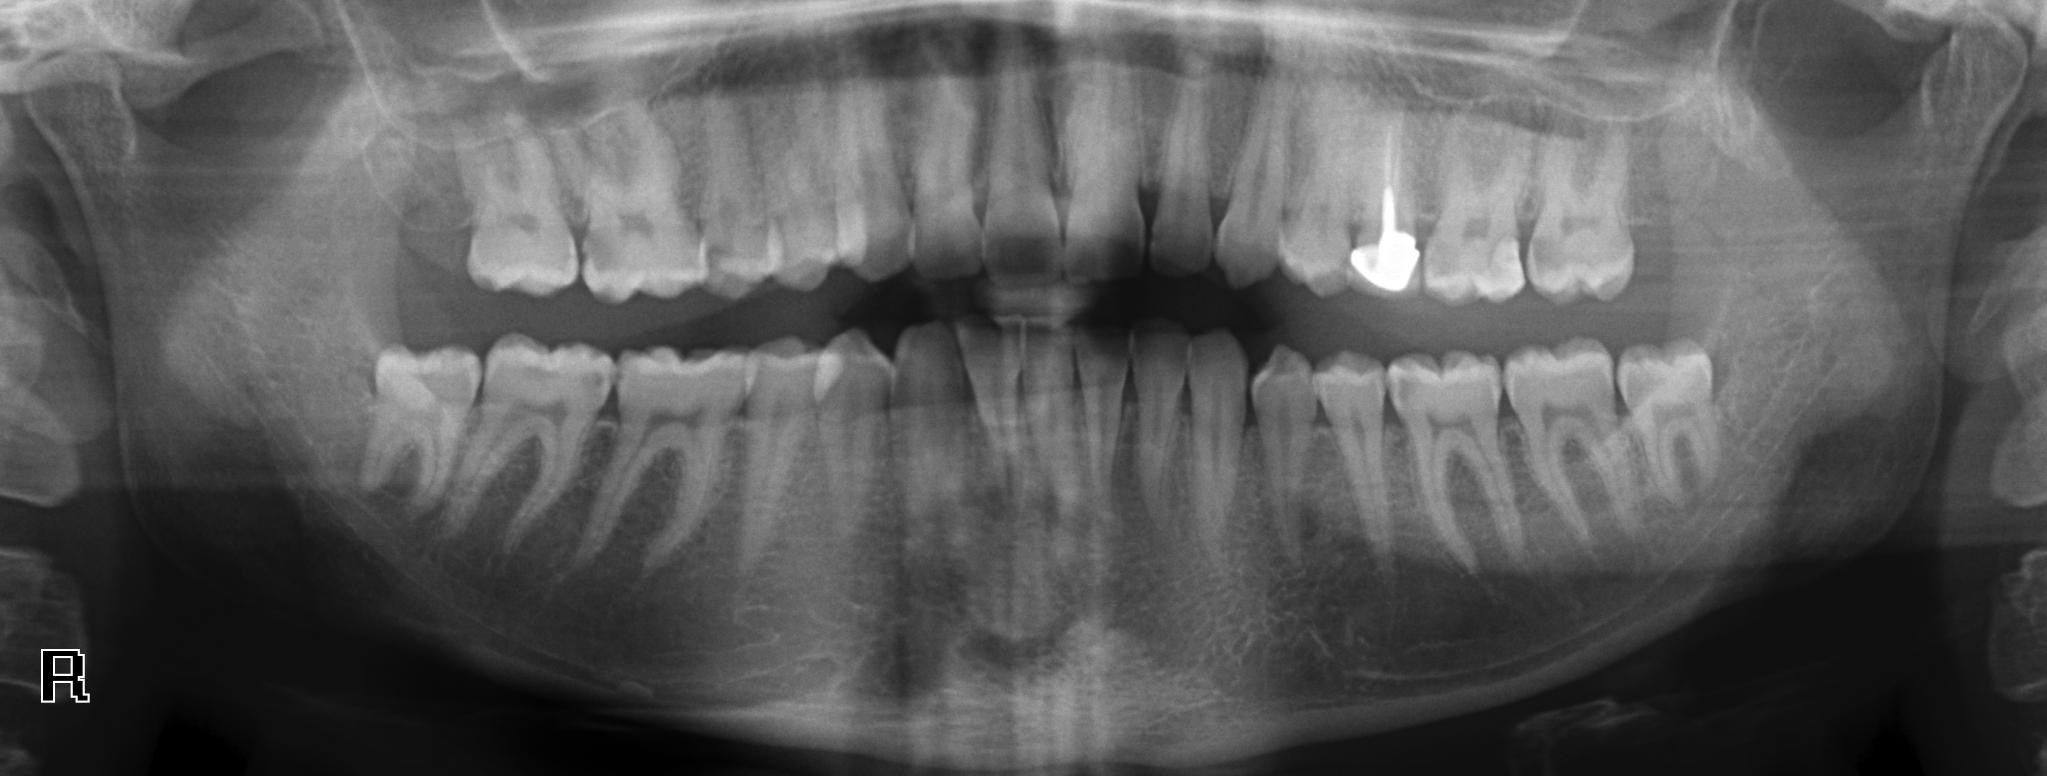Implant: (1346, 106, 1428, 307)
